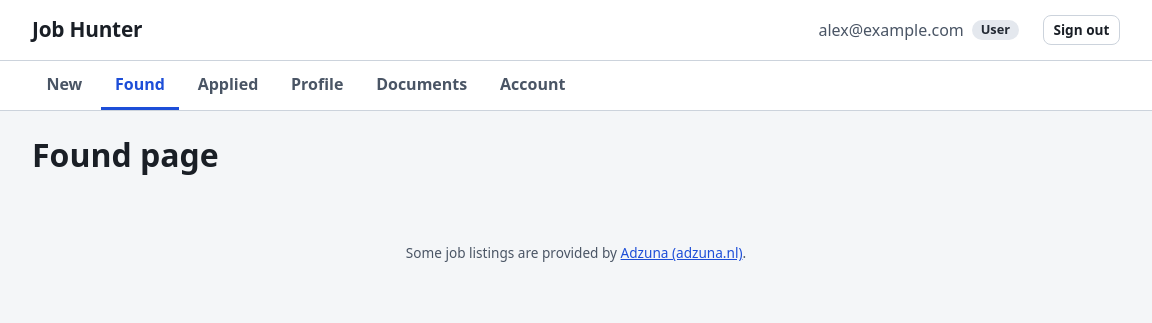
Test case: Layout › says when signing out failed and clears the message on the next try
Click the button "Sign out" at point(1081, 30), box [1043,15,1120,45]
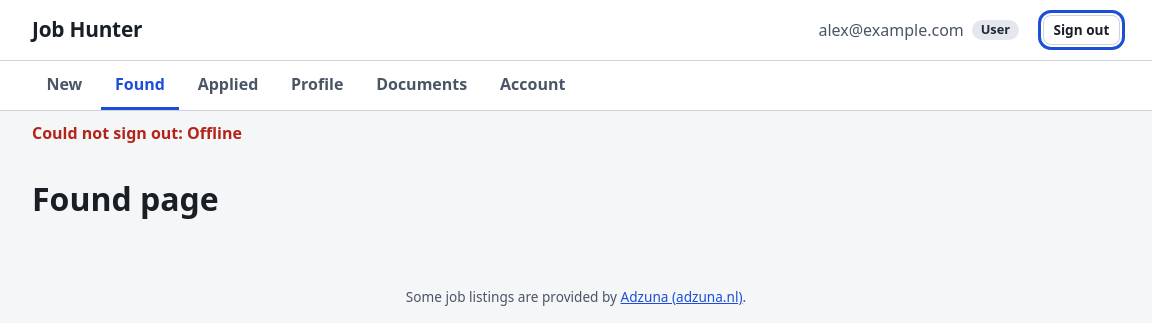
Result: the message reads "Could not sign out: Offline" at [32,122,242,144]
Click the button "Sign out" at point(1081, 30), box [1043,15,1120,45]
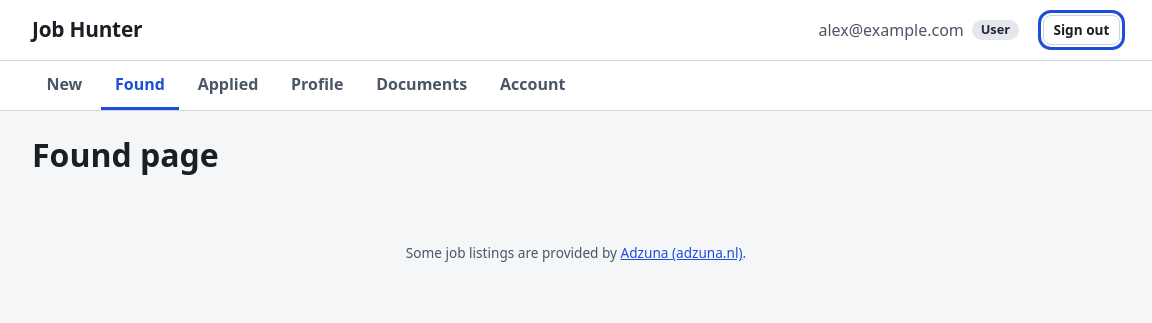
Result: the message "Could not sign out: Offline" is gone
